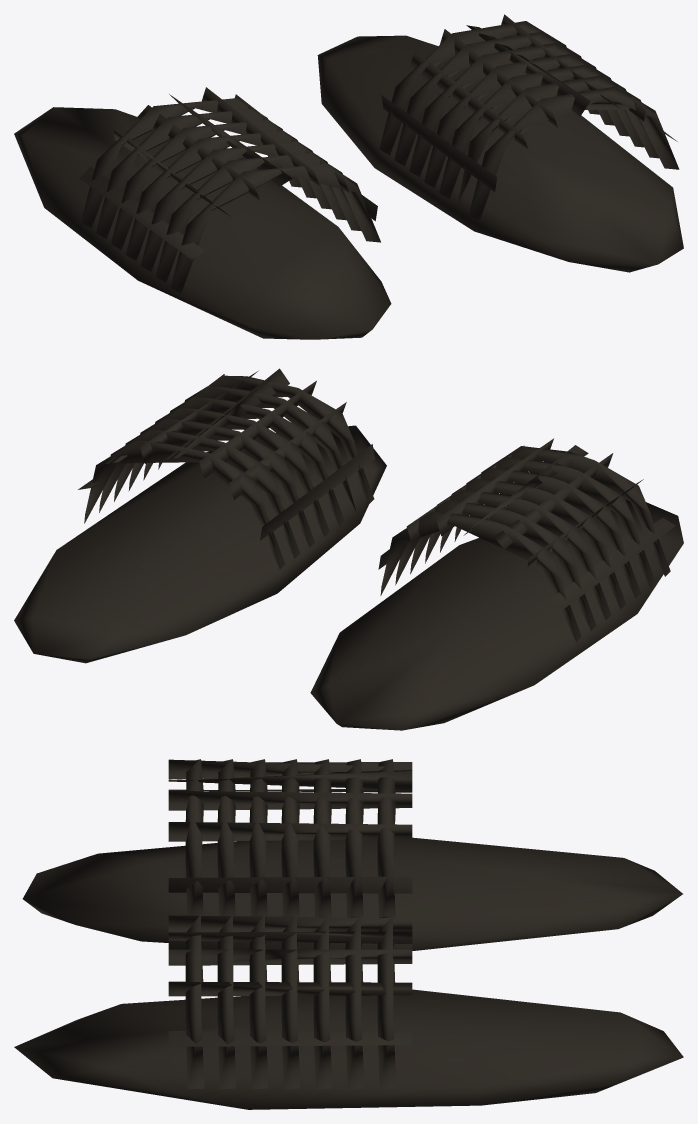
File: dep_to_ong_lod1.glb
The picture shows the model from 3 angles, top to bottom: view 1: azimuth 30°, elevation 25°; view 2: azimuth 150°, elevation 25°; view 3: azimuth 270°, elevation 25°; orthographic projection. The views are drawn at different scales.
Parts seen in each view (by area): view 1: dep_to_ong.001; view 2: dep_to_ong.001; view 3: dep_to_ong.001.
Part boxes in pixels (box(x1,y1,x2,y2)): dep_to_ong.001: box(14, 14, 683, 339); dep_to_ong.001: box(14, 368, 683, 730); dep_to_ong.001: box(14, 759, 683, 1109).
Size of the model in its own units: 0.2535 by 0.0674 by 0.2723.
1 material, 1 textured.
